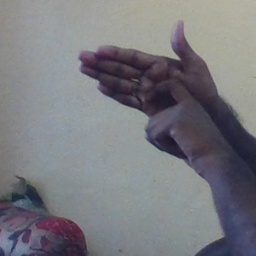R: (73, 17, 217, 150)
